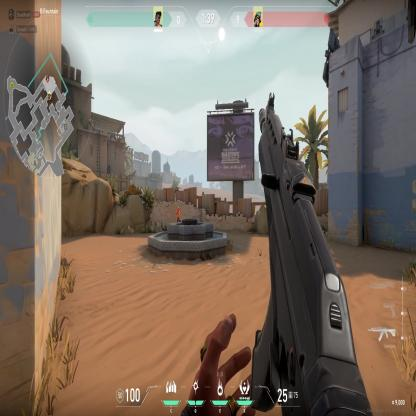enemy: (175, 205, 181, 222)
